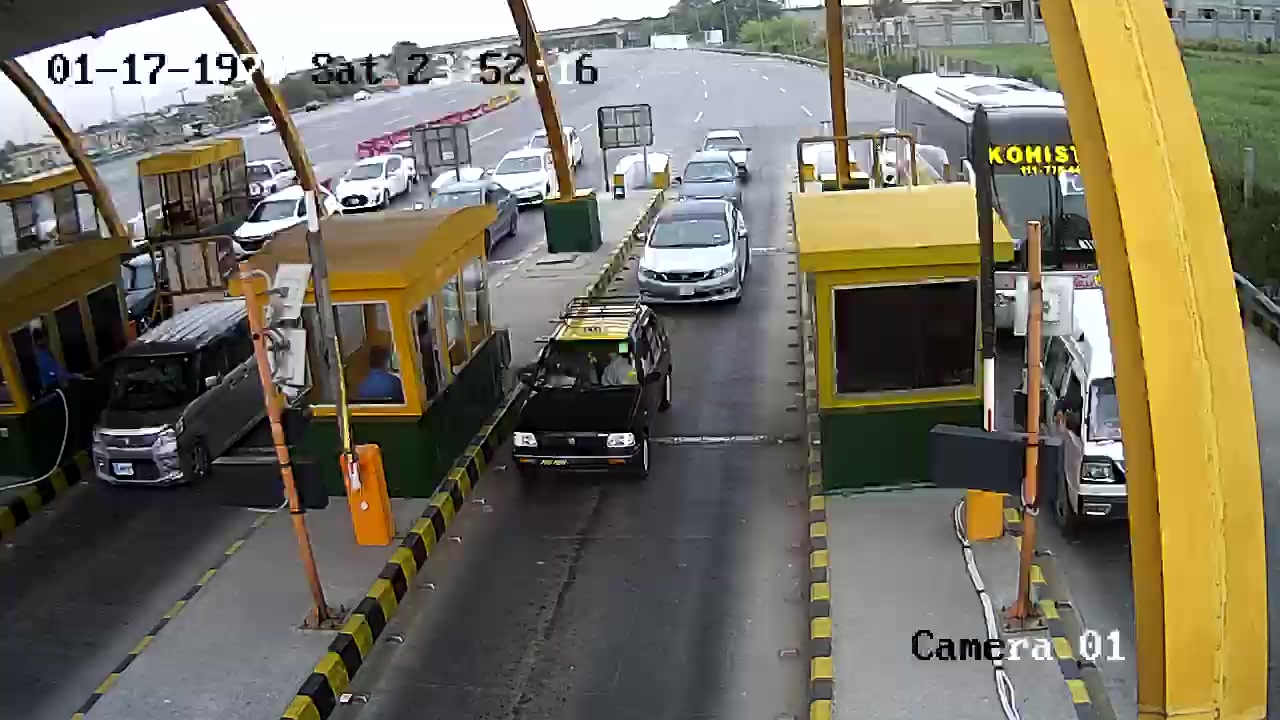F1: (501, 296, 676, 494)
